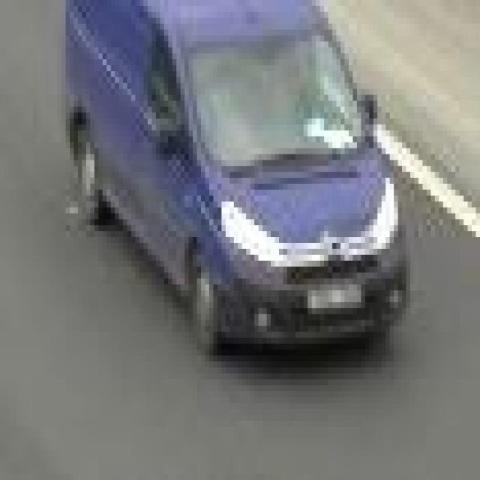van: (66, 0, 415, 350)
